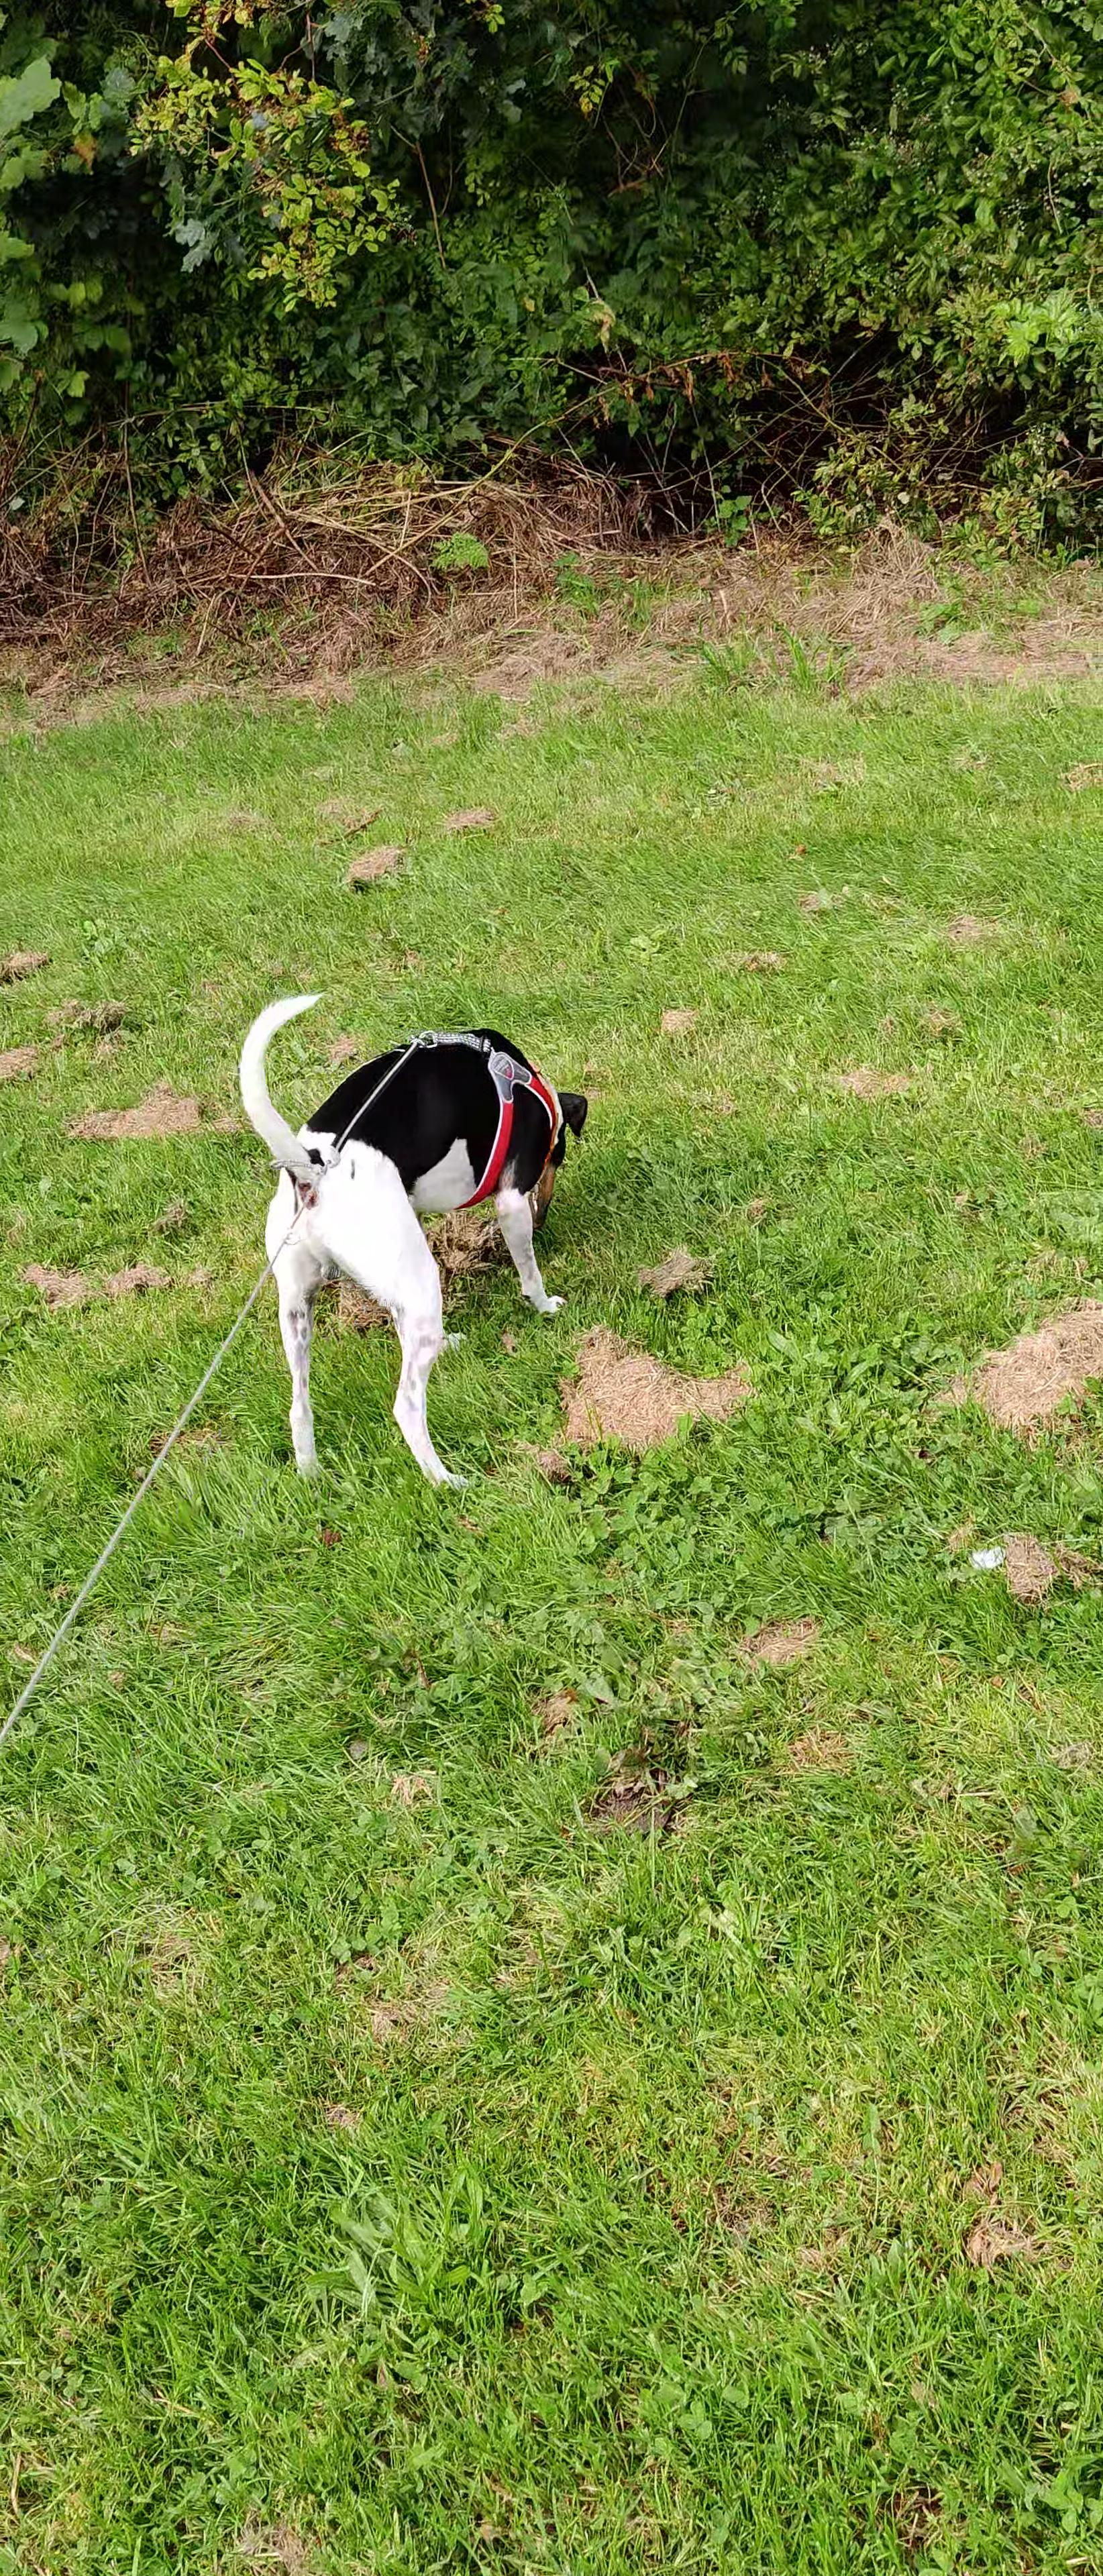Dog: (224, 982, 603, 1502)
